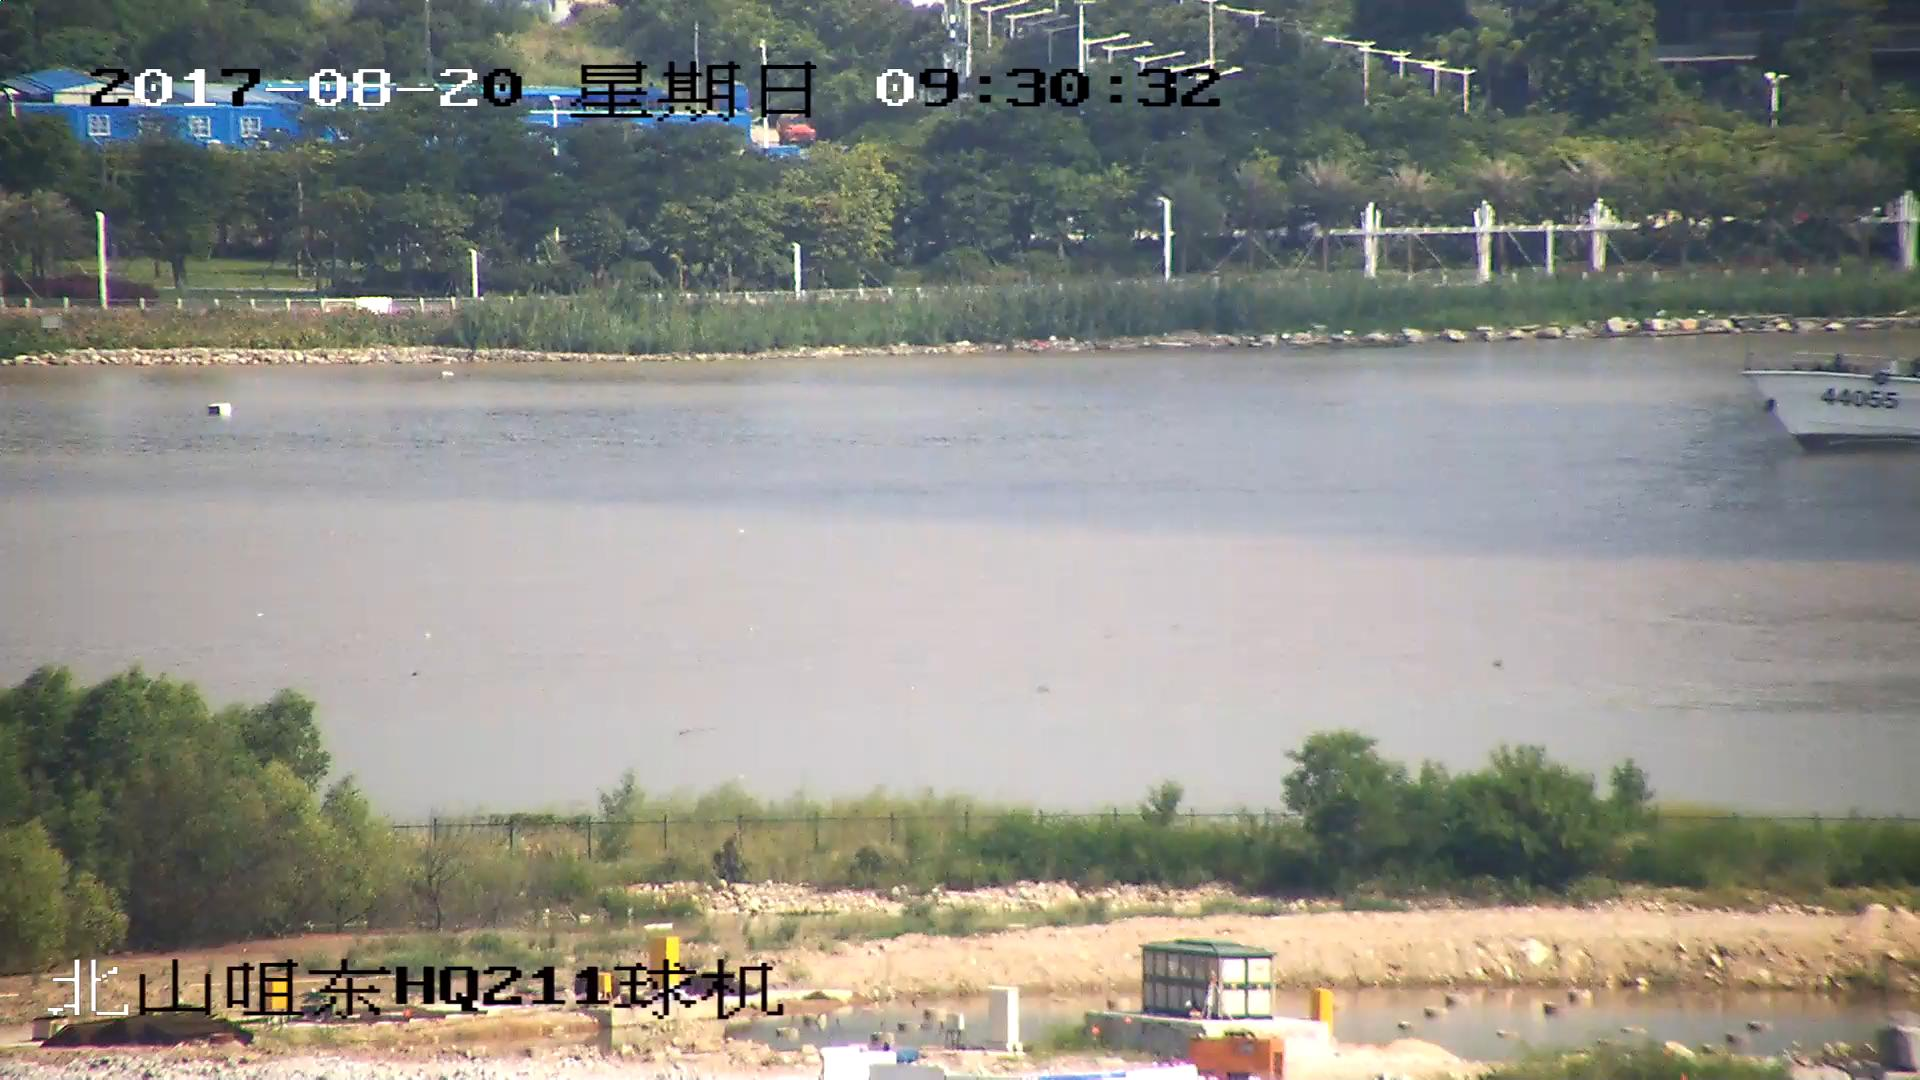passenger ship: (1736, 354, 1920, 451)
